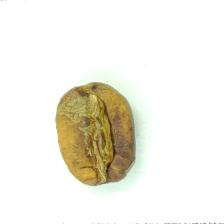NG: (57, 84, 135, 184)
